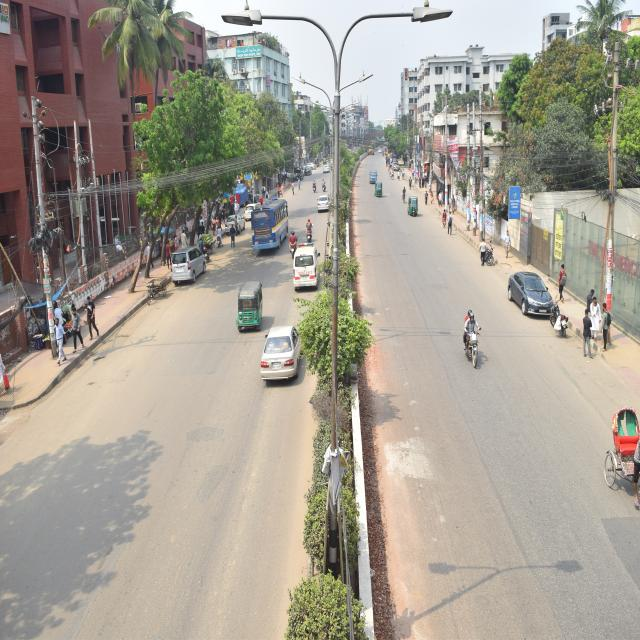bus: (243, 194, 294, 254)
car: (259, 316, 305, 391), (506, 258, 553, 320), (224, 210, 248, 234), (315, 192, 334, 220), (241, 201, 254, 219)
microbus: (164, 241, 217, 283), (291, 238, 327, 297)
motorbike: (545, 290, 575, 342), (459, 315, 483, 378), (477, 237, 495, 272), (284, 225, 296, 262), (302, 222, 318, 249), (212, 224, 225, 254), (197, 244, 212, 263), (309, 178, 318, 194), (322, 180, 328, 193)
pickup-van: (369, 163, 380, 190)
